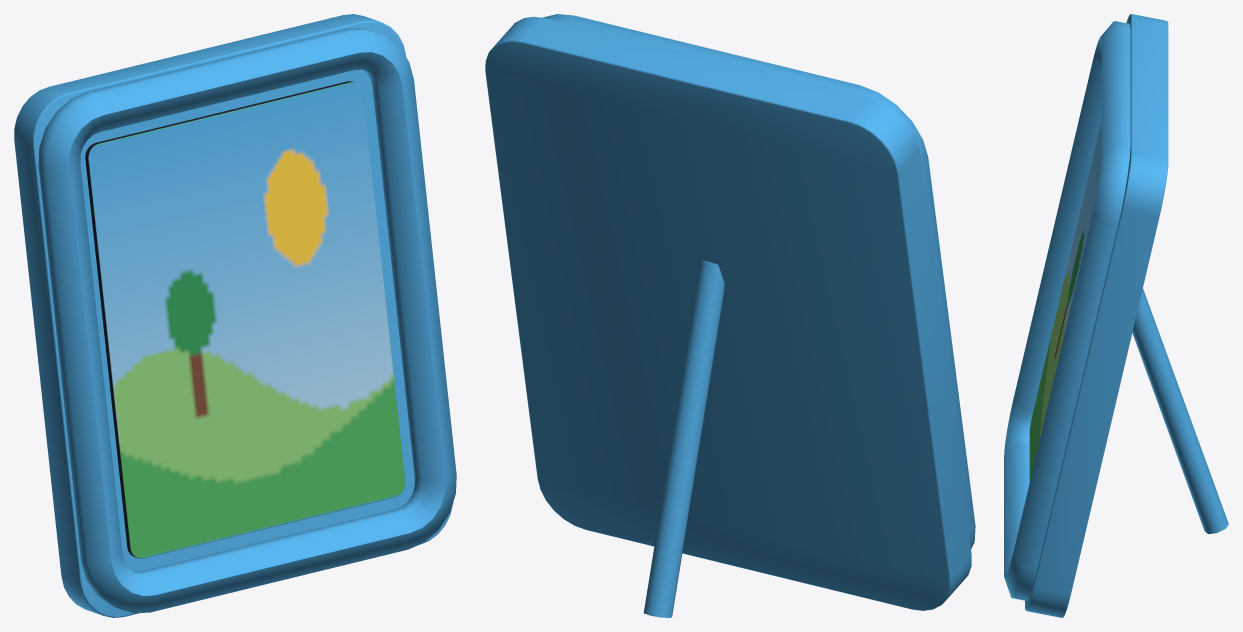
The model's file is porta_retrato_azul.glb.
3 renders of one model, left to right at view 1: azimuth 30°, elevation 25°; view 2: azimuth 150°, elevation 25°; view 3: azimuth 270°, elevation 25°, orthographic. The views are drawn at different scales.
Parts seen in each view (by area): view 1: porta_retrato_azul; view 2: porta_retrato_azul; view 3: porta_retrato_azul.
Boxes of the visible parts, x1,y1,x2,y2 form: porta_retrato_azul: [14, 14, 456, 617]; porta_retrato_azul: [485, 14, 975, 617]; porta_retrato_azul: [1004, 14, 1228, 617].
Bounding box in the file's own units: 0.19 × 0.2385 × 0.1054.
2 materials, 2 textured.
